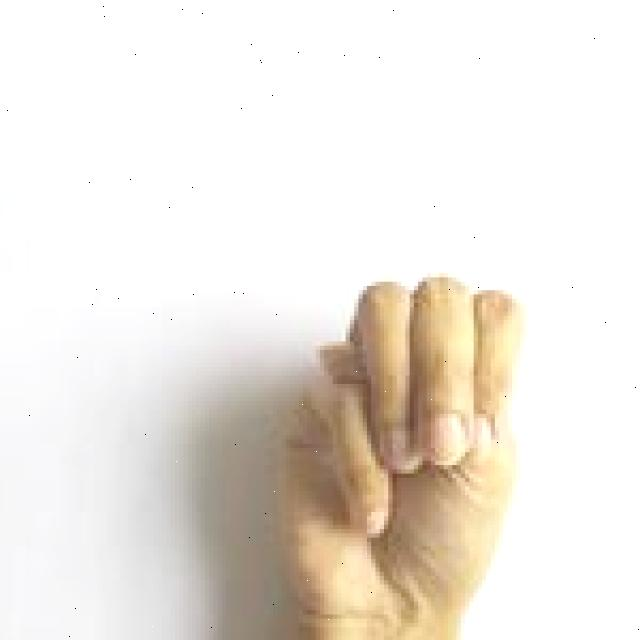M: (266, 267, 532, 640)
